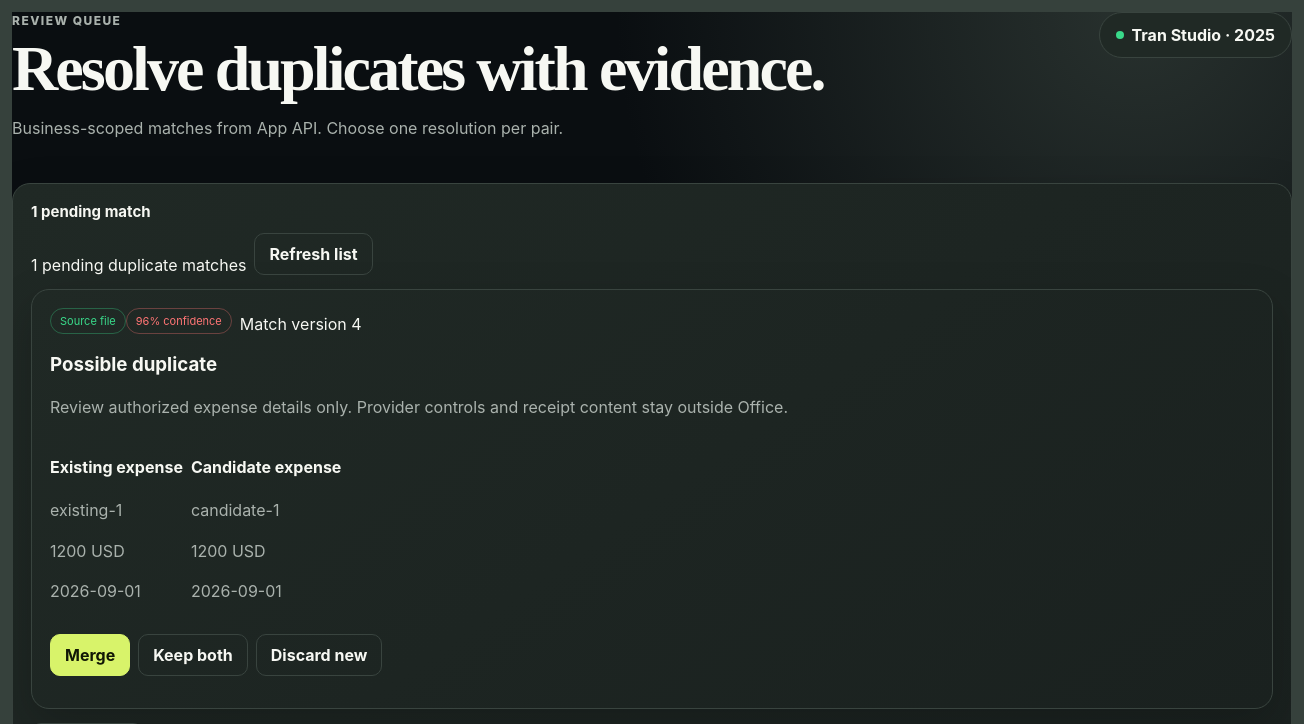
Scenario: rendered Office duplicate review › submits discard_new action and disables controls while pending
Click the button "Discard new": (319, 655) [256,634,382,676]
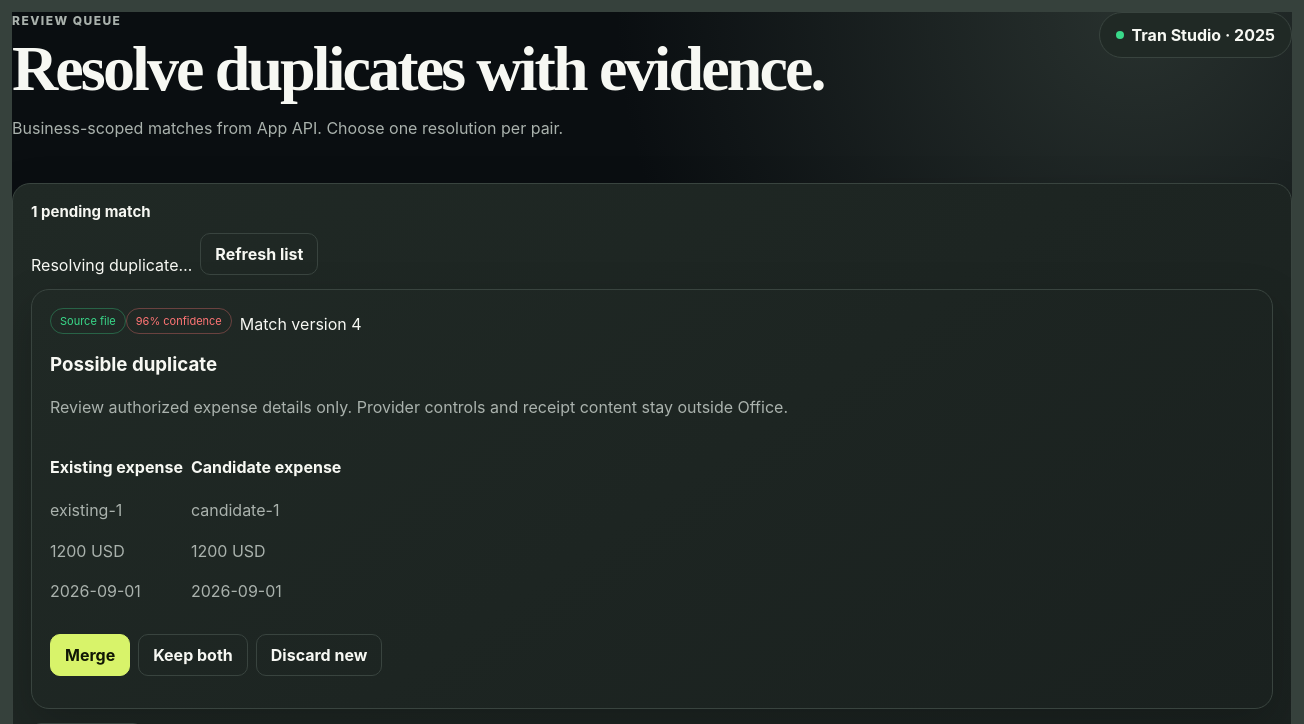
Expected: the button "Merge" is disabled, [50,634,130,676]
Expected: the message shows "Resolving duplicate", [31,255,192,275]
